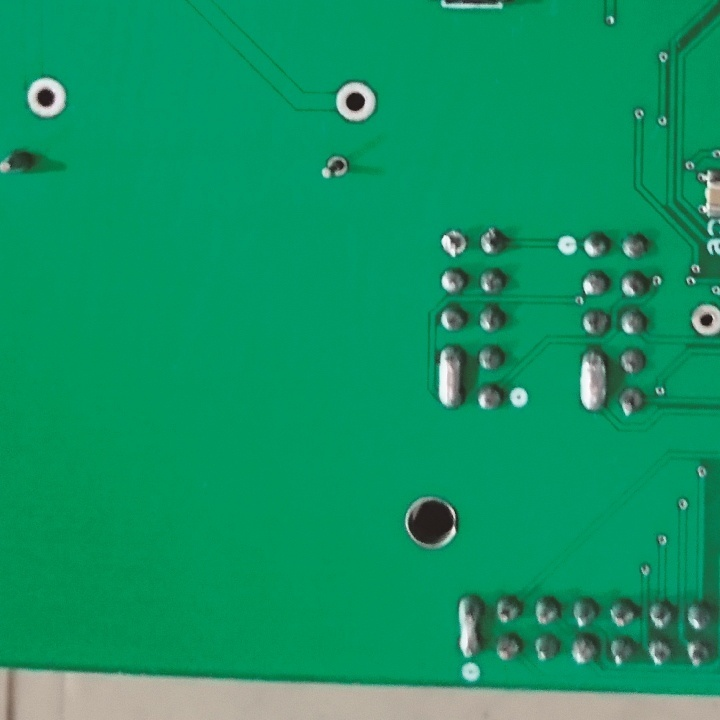F: (333, 78, 381, 126), (23, 76, 71, 122), (687, 299, 720, 340), (319, 152, 350, 183), (438, 226, 468, 258)
P: (573, 345, 610, 416), (433, 341, 467, 414), (456, 594, 484, 658)
